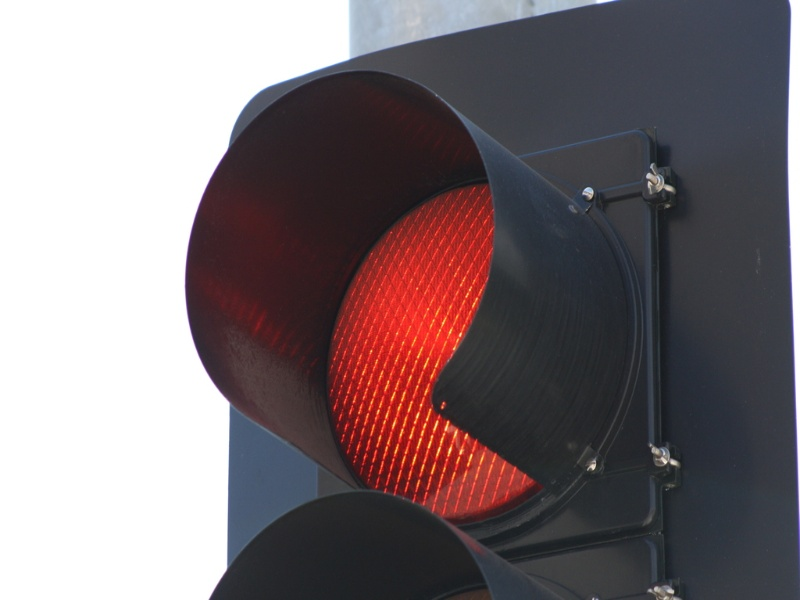red_light: (181, 135, 614, 530)
